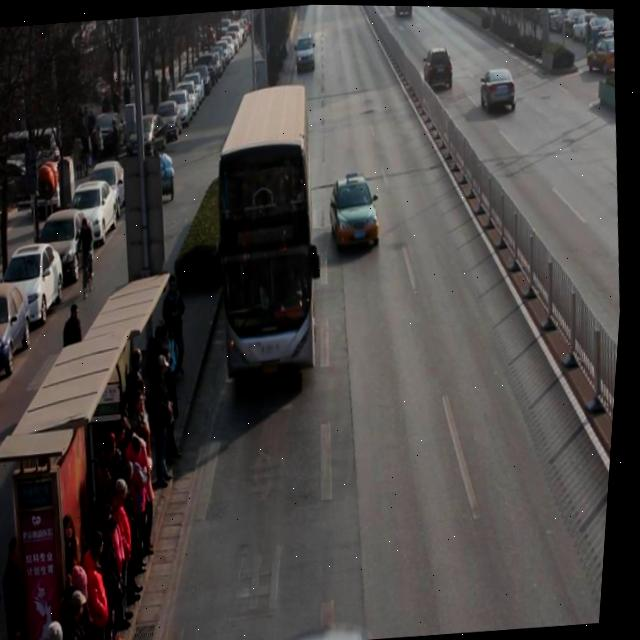car: (329, 174, 386, 252), (478, 66, 520, 114), (421, 45, 456, 91)
truck: (293, 31, 319, 73)
van: (198, 81, 331, 378)
